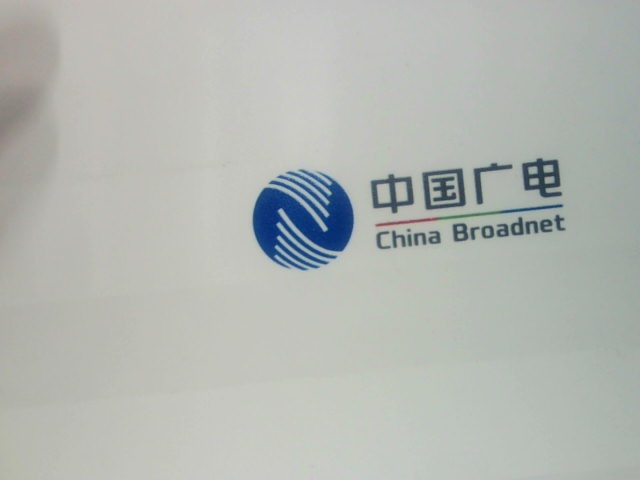AW_ChinaBroadNet: (249, 155, 579, 267)
